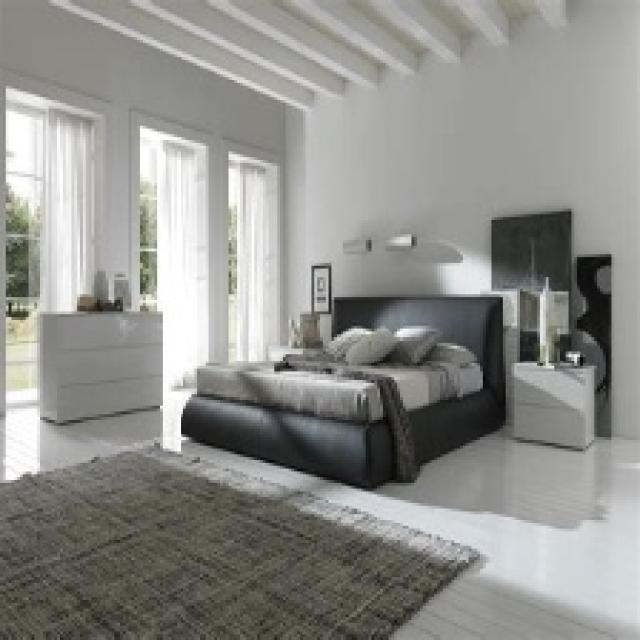Bed: (177, 292, 506, 488)
